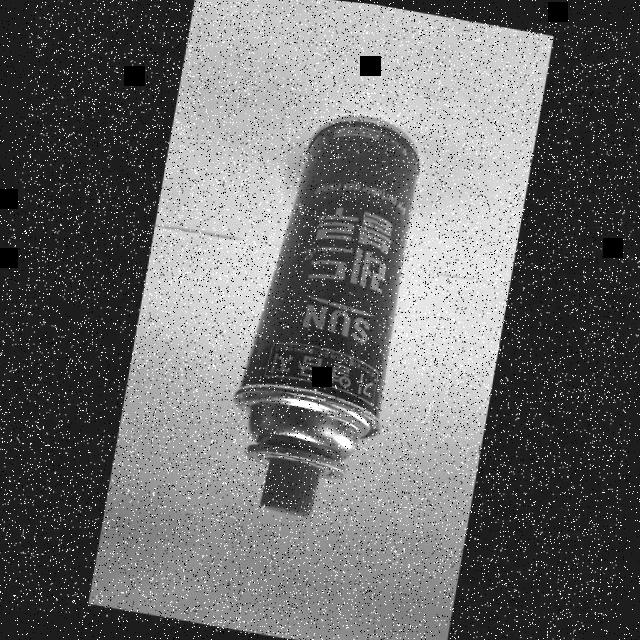chemical_spray_can: (199, 80, 450, 549)
